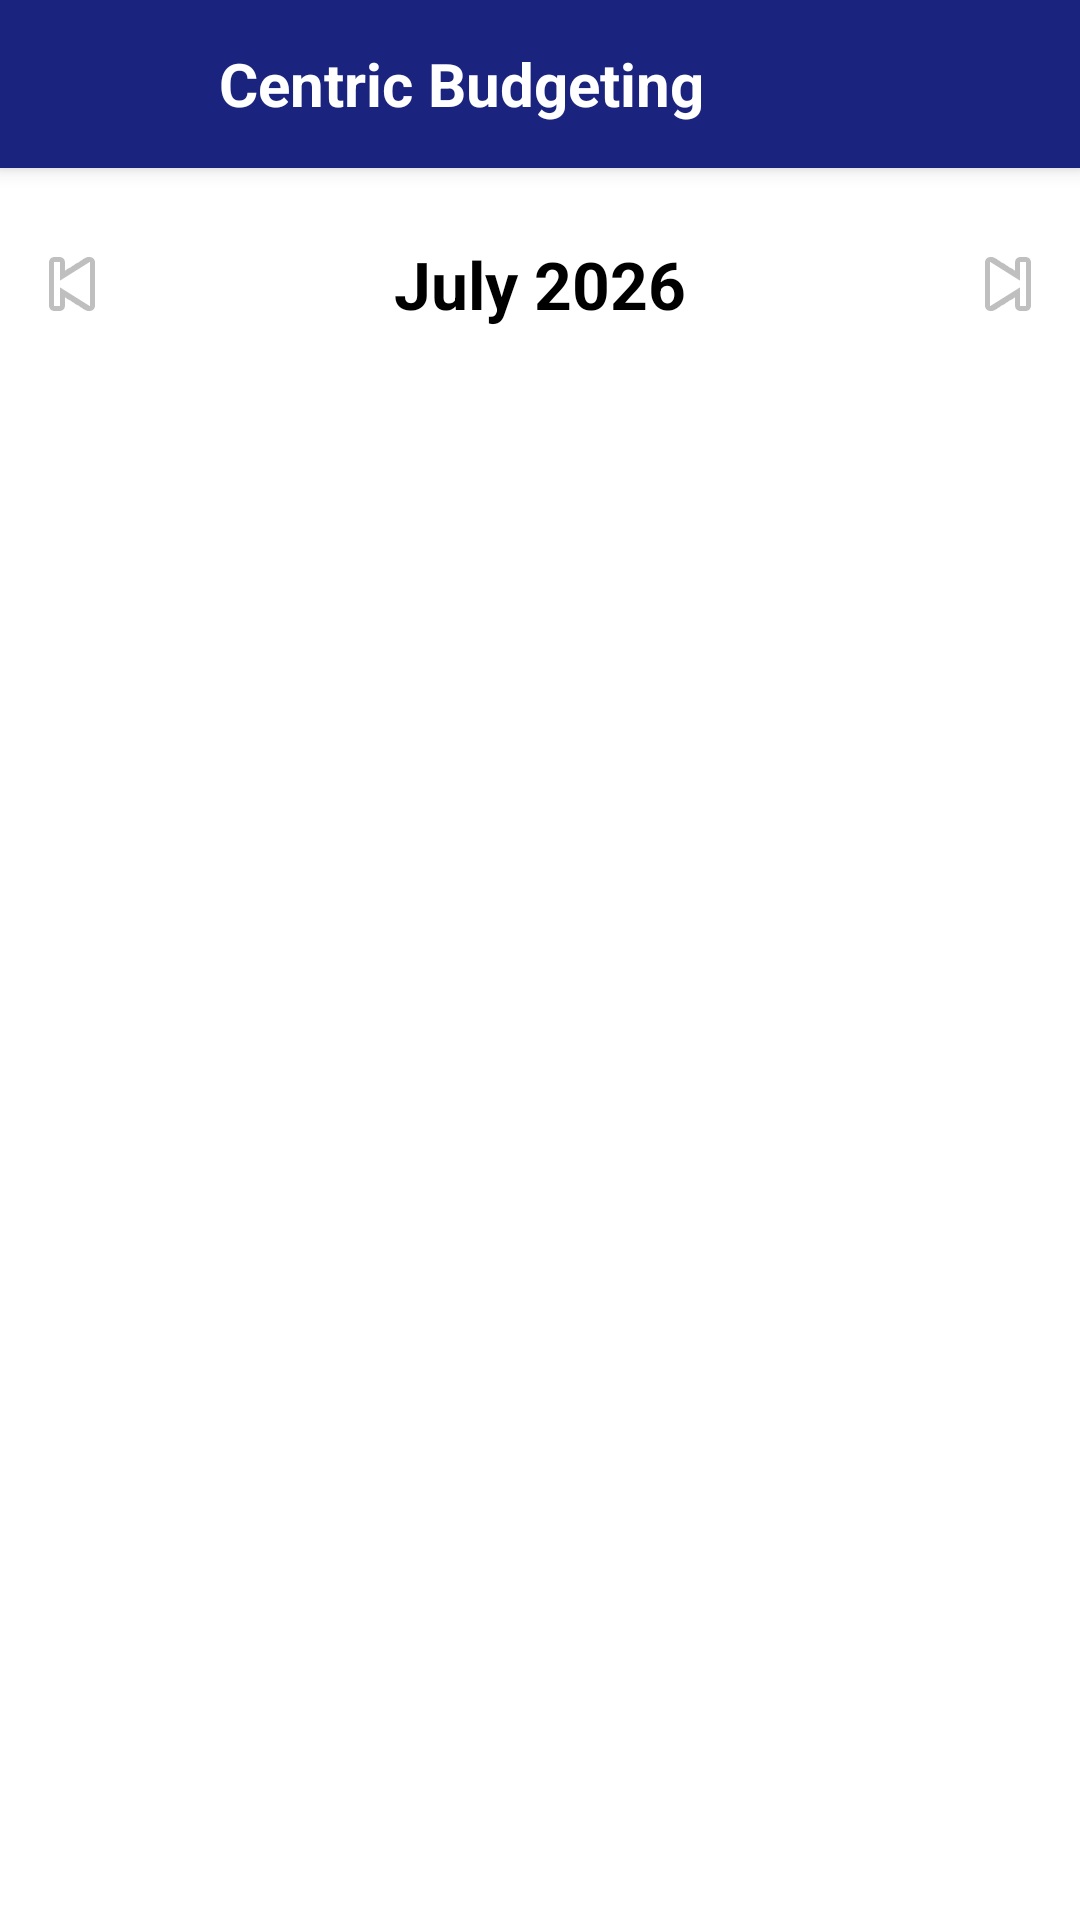

Named icons in this screenshot (1080px x 1920px) and their bounding boxes, (x1, y1, x2, y2):
next: (985, 257, 1031, 311)
previous: (49, 257, 95, 311)
